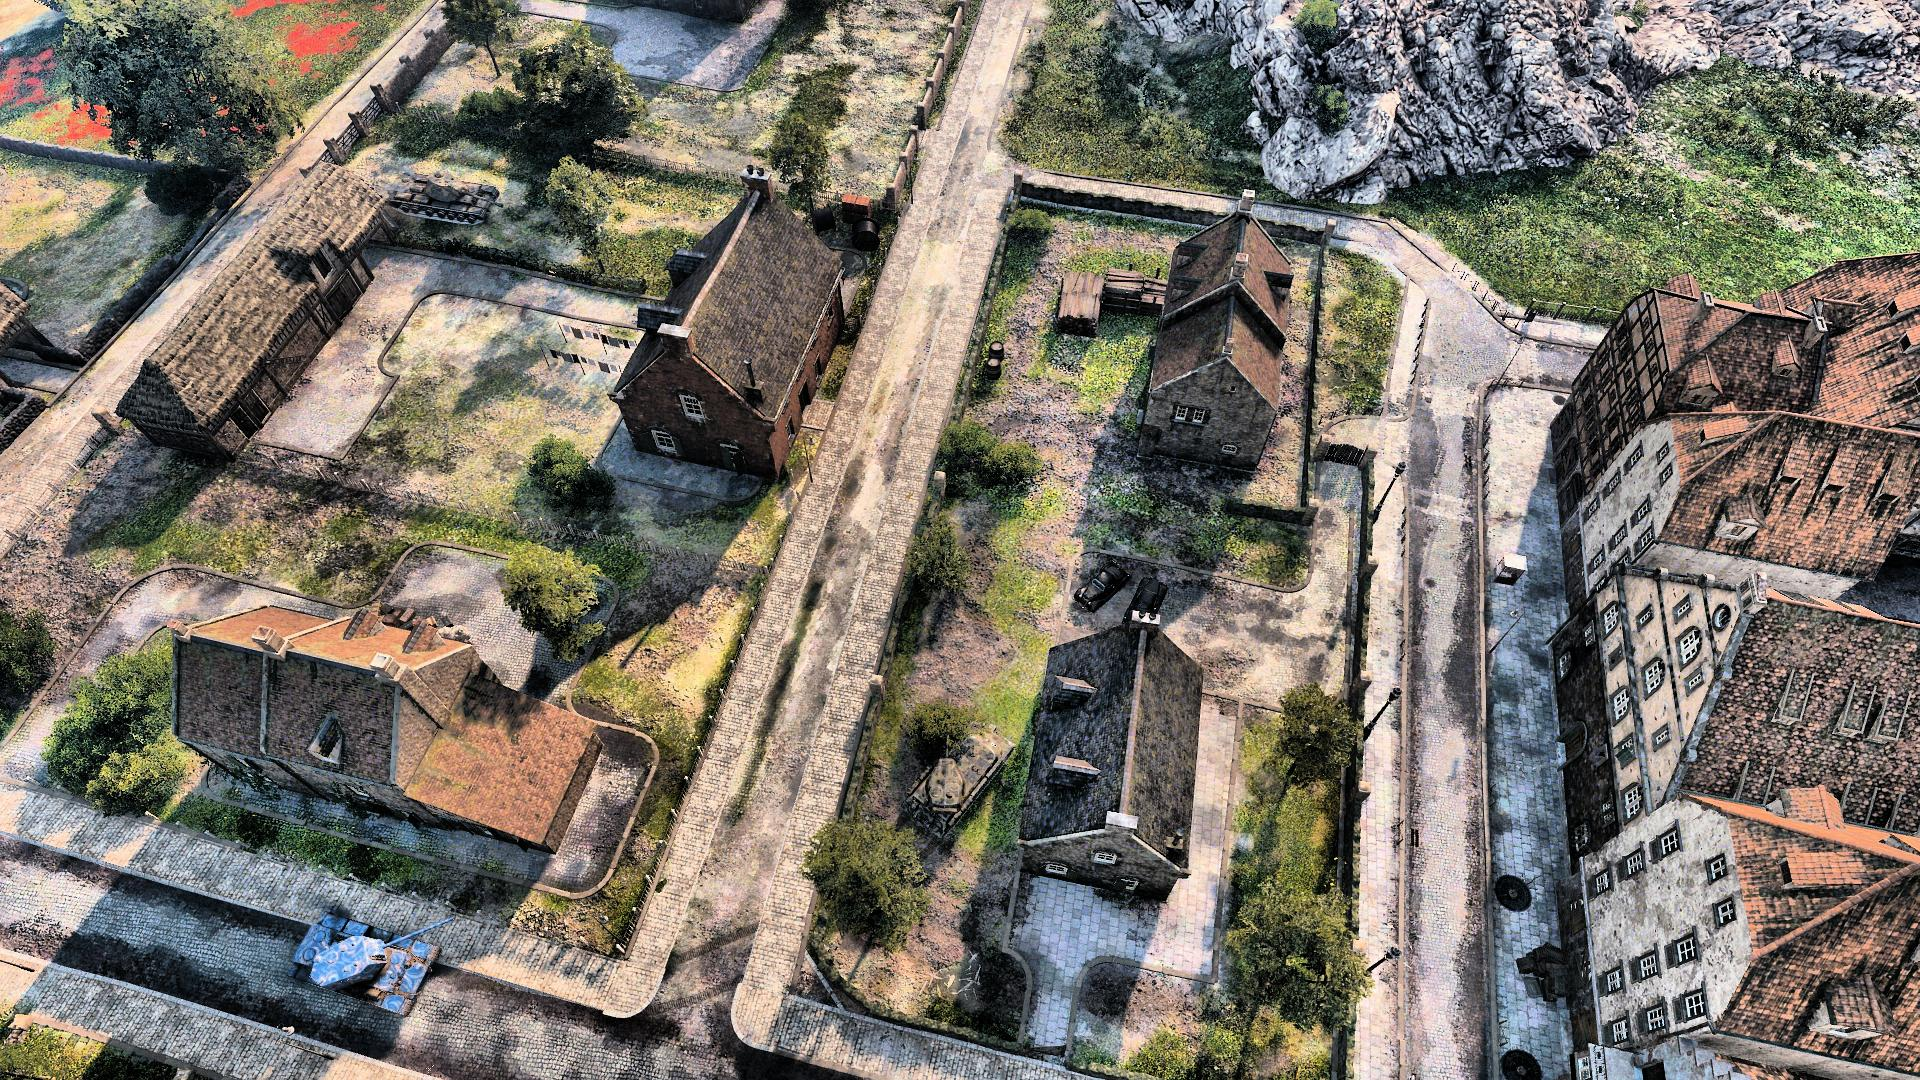military-vehicle: (901, 688, 1013, 836), (291, 914, 452, 1011), (386, 171, 504, 225)
